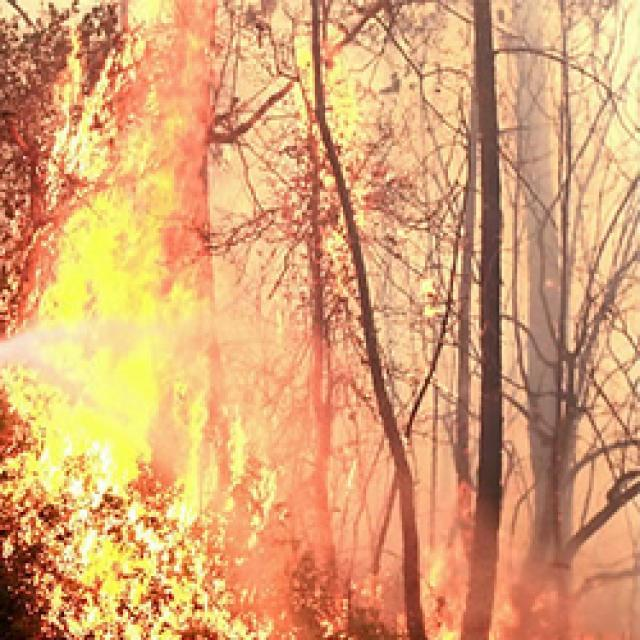Fire: (0, 0, 246, 594), (0, 430, 479, 640), (337, 492, 580, 640)
Smoke: (241, 0, 638, 427)
